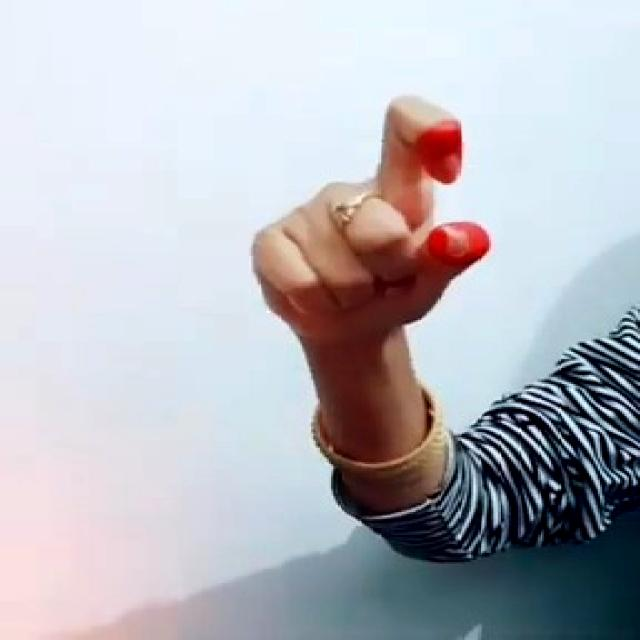Kapittha: (164, 61, 569, 359)
bangle: (291, 378, 485, 476)
